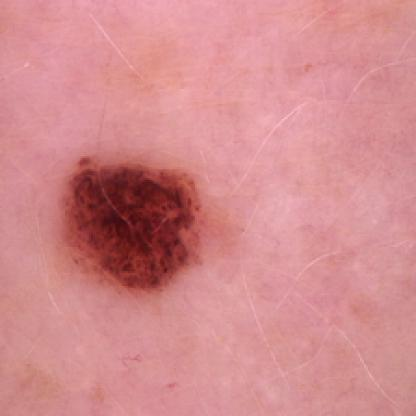benign: (61, 147, 218, 301)
